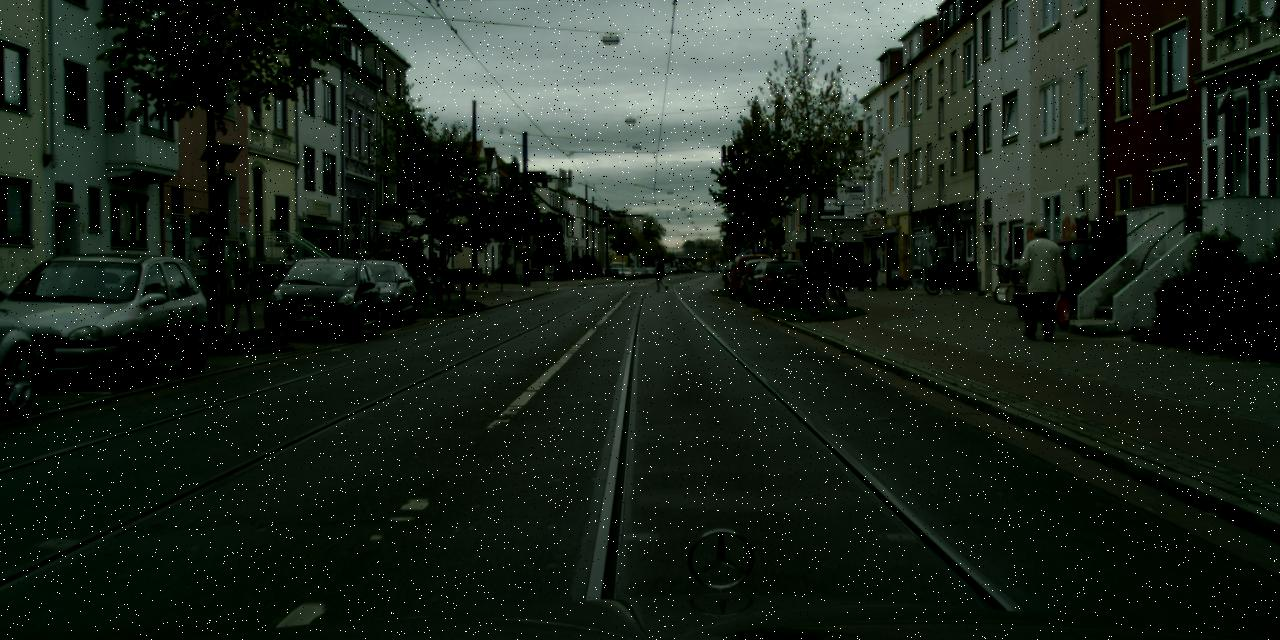ped: (1016, 224, 1063, 339), (425, 252, 441, 292), (866, 253, 882, 290), (838, 252, 853, 289), (654, 255, 668, 290), (855, 262, 866, 290)
